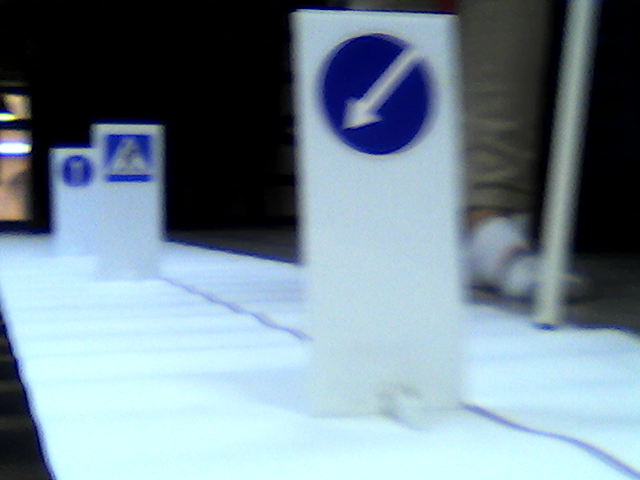prep: (321, 33, 435, 157)
